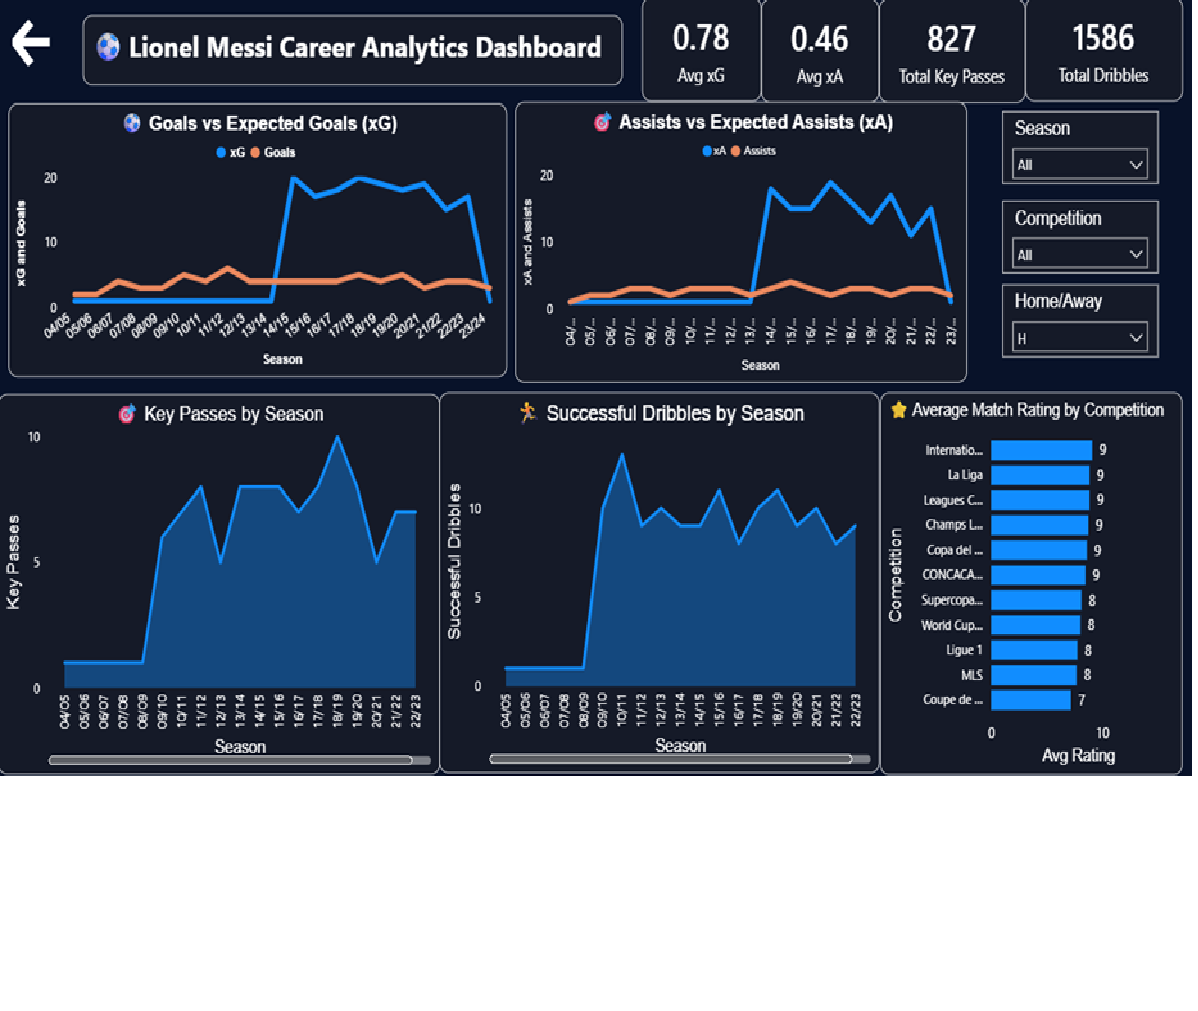

This screenshot's page, from the dashboard's own definition file:
{"tool":"powerbi","page":{"name":"Page 2","canvas":[1280,720],"ordinal":1},"visuals":[{"type":"cardVisual","fields":{"Data":["leomessi_matches.Avg xG"]},"box":[690.2,2.7,127.6,94.7],"z":0},{"type":"cardVisual","fields":{"Data":["leomessi_matches.Avg xA"]},"box":[817.8,4.1,126.2,94.7],"z":1000},{"type":"cardVisual","fields":{"Data":["leomessi_matches.Total Key Passes"]},"box":[944.1,4.1,156.4,94.7],"z":2000},{"type":"cardVisual","fields":{"Data":["leomessi_matches.Total Dribbles"]},"box":[1100.5,2.7,168.8,94.7],"z":3000},{"type":"lineChart","title":"⚽ Goals vs Expected Goals (xG)","fields":{"Category":["leomessi_matches.Season"],"Y":["Count(leomessi_matches.xG)","Count(leomessi_matches.Goals)"]},"box":[12.3,98.8,533.8,247],"z":4000},{"type":"lineChart","title":"🎯 Assists vs Expected Assists (xA)","fields":{"Category":["leomessi_matches.Season"],"Y":["Count(leomessi_matches.xA)","Count(leomessi_matches.Assists)"]},"box":[554.5,96.9,484.4,253.4],"z":5000},{"type":"areaChart","title":"🎯 Key Passes by Season","fields":{"Category":["leomessi_matches.Season"],"Y":["Count(leomessi_matches.Key Passes)"]},"box":[1.5,360.7,472.5,344.3],"z":6000},{"type":"areaChart","title":"🏃 Successful Dribbles by Season","fields":{"Category":["leomessi_matches.Season"],"Y":["Count(leomessi_matches.Successful Dribbles)"]},"box":[474,359.2,471,344.3],"z":7000},{"type":"clusteredBarChart","title":"⭐ Average Match Rating by Competition","fields":{"Category":["leomessi_matches.Competition"],"Y":["leomessi_matches.Avg Rating"]},"box":[944.9,359.2,323.4,345.8],"z":8000},{"type":"slicer","fields":{"Values":["leomessi_matches.Season"]},"box":[1076.1,105.8,166.9,65.6],"z":9000},{"type":"slicer","fields":{"Values":["leomessi_matches.Competition"]},"box":[1076.1,186.3,166.9,65.6],"z":10000},{"type":"slicer","fields":{"Values":["leomessi_matches.Home/Away"]},"box":[1076.1,262.3,166.9,65.6],"z":11000},{"type":"textbox","box":[91.9,19.2,577.7,63.1],"z":12000},{"type":"actionButton","box":[12.3,19.2,52.1,50.8],"z":13000}]}

Visuals, with their boxes on the page's 1280x720 design canvas (x1, y1, x2, y2). These are canvas units, not pixel positions in the 1198x1011 screenshot, which may show the page scaled, cropped or inside an application window:
cardVisual - leomessi_matches.Avg xG: [left=690, top=3, right=818, bottom=97]
cardVisual - leomessi_matches.Avg xA: [left=818, top=4, right=944, bottom=99]
cardVisual - leomessi_matches.Total Key Passes: [left=944, top=4, right=1100, bottom=99]
cardVisual - leomessi_matches.Total Dribbles: [left=1100, top=3, right=1269, bottom=97]
"⚽ Goals vs Expected Goals (xG)" lineChart: [left=12, top=99, right=546, bottom=346]
"🎯 Assists vs Expected Assists (xA)" lineChart: [left=554, top=97, right=1039, bottom=350]
"🎯 Key Passes by Season" areaChart: [left=2, top=361, right=474, bottom=705]
"🏃 Successful Dribbles by Season" areaChart: [left=474, top=359, right=945, bottom=704]
"⭐ Average Match Rating by Competition" clusteredBarChart: [left=945, top=359, right=1268, bottom=705]
slicer - leomessi_matches.Season: [left=1076, top=106, right=1243, bottom=171]
slicer - leomessi_matches.Competition: [left=1076, top=186, right=1243, bottom=252]
slicer - leomessi_matches.Home/Away: [left=1076, top=262, right=1243, bottom=328]
textbox: [left=92, top=19, right=670, bottom=82]
actionButton: [left=12, top=19, right=64, bottom=70]
